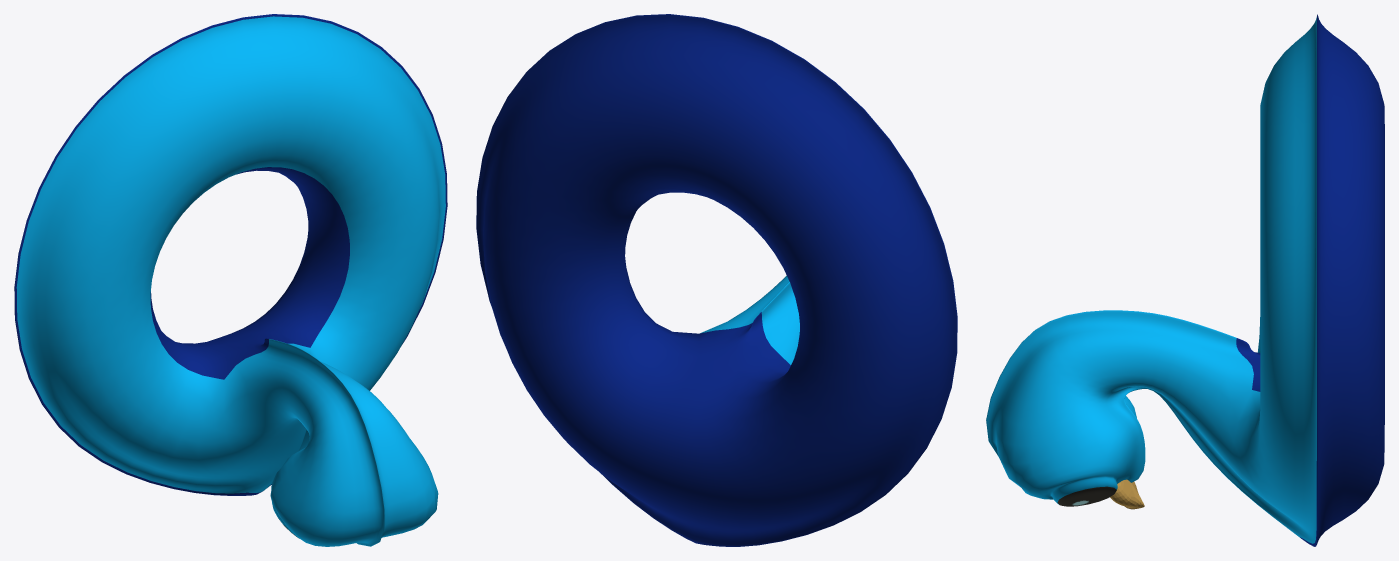
File: floaty bird blue.fbx
3 renders of one model, left to right at view 1: azimuth 30°, elevation 25°; view 2: azimuth 150°, elevation 25°; view 3: azimuth 270°, elevation 25°, orthographic. The views are drawn at different scales.
Parts seen in each view (by area): view 1: BIRD; view 2: BIRD; view 3: BIRD, beak.
Part boxes in pixels (box(x1,y1,x2,y2)): BIRD: box(14, 14, 447, 546); BIRD: box(476, 14, 957, 546); BIRD: box(986, 14, 1384, 546); beak: box(1110, 479, 1144, 509).
Bounding box in the file's own units: 307 × 323 × 236.
Materials: 4 (1 with a texture image).
